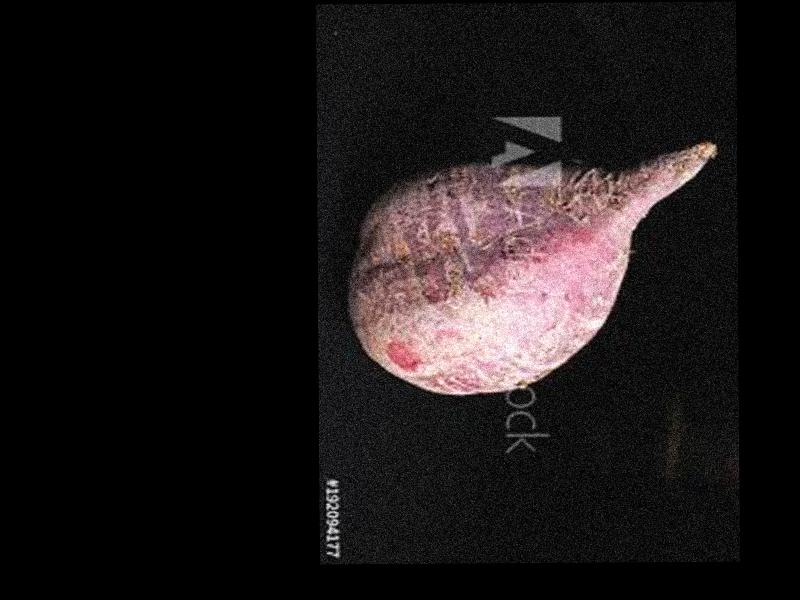Beet: (351, 144, 717, 397)
